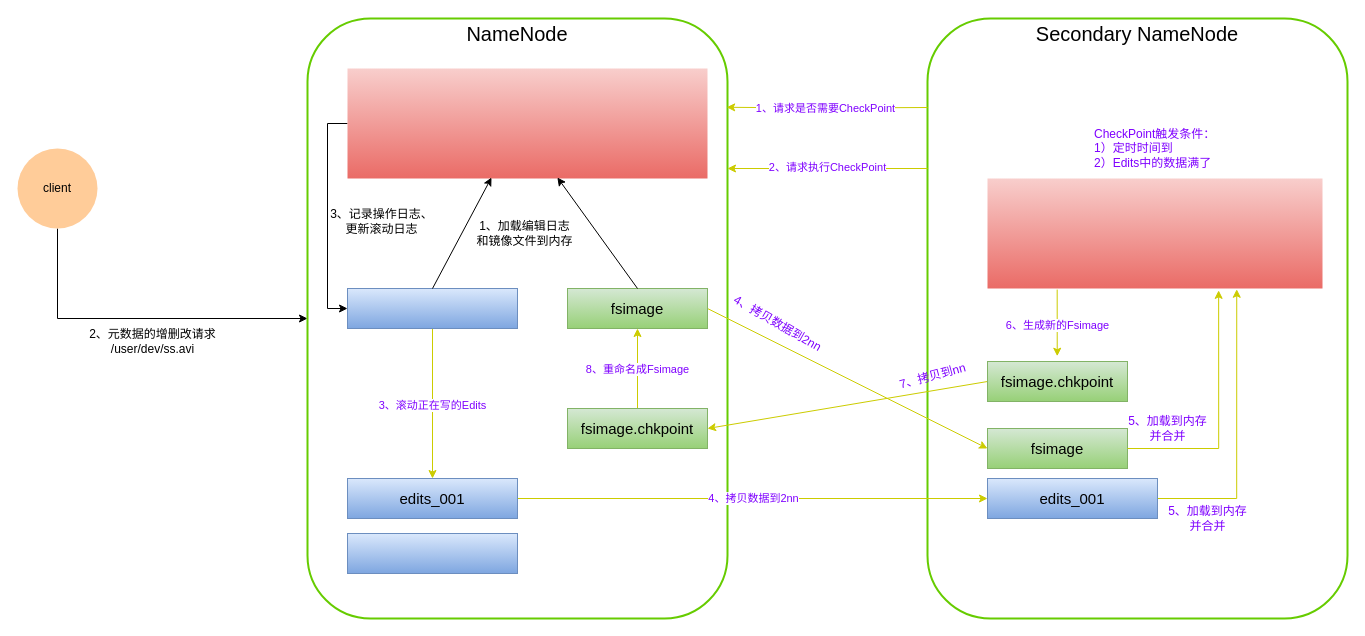
Image size: 1365x636. Some labels were removed from this diagram. Each missing label, with the centre of its shape:
"edits_inprogress_001" goes at (432,308).
"edits_inprogress_002" goes at (432,553).
"内存" goes at (1154,233).
"内存128G （每个Block占元数据150byte） 4、内存数据增删改" goes at (527,123).
